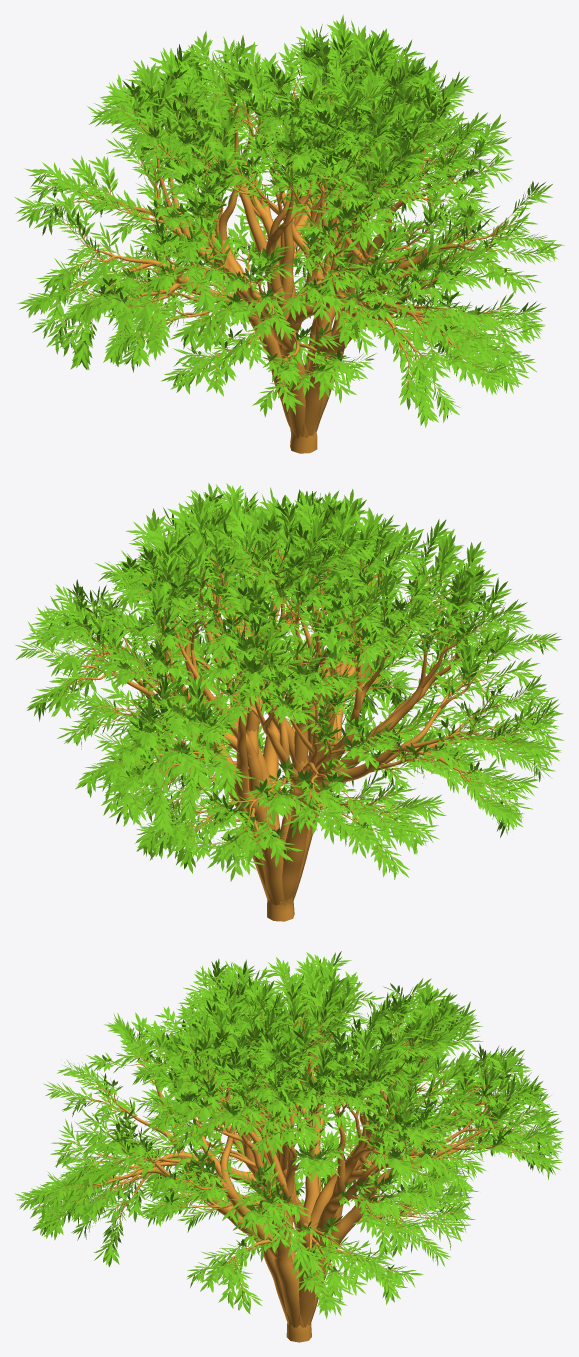
The model's file is pohon.fbx.
3 renders of one model, top to bottom at view 1: azimuth 30°, elevation 25°; view 2: azimuth 150°, elevation 25°; view 3: azimuth 270°, elevation 25°, orthographic. The views are drawn at different scales.
Parts seen in each view (by area): view 1: leaves.003, tree.003; view 2: leaves.003, tree.003; view 3: leaves.003, tree.003.
Boxes of the visible parts, x1=… form: leaves.003: x1=15, y1=14, x2=564, y2=427; tree.003: x1=30, y1=35, x2=538, y2=453; leaves.003: x1=15, y1=483, x2=563, y2=881; tree.003: x1=32, y1=498, x2=546, y2=921; leaves.003: x1=15, y1=951, x2=563, y2=1318; tree.003: x1=30, y1=973, x2=545, y2=1342.
Bounding box in the file's own units: 803 × 658 × 935.
